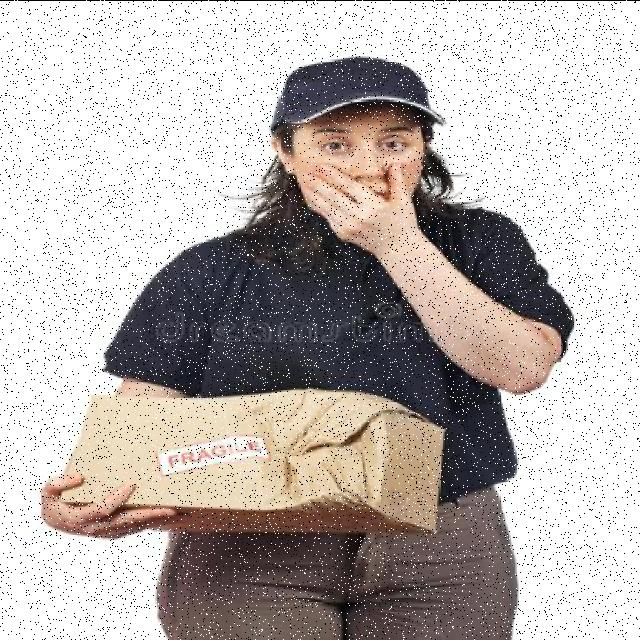defect: (54, 386, 454, 540)
